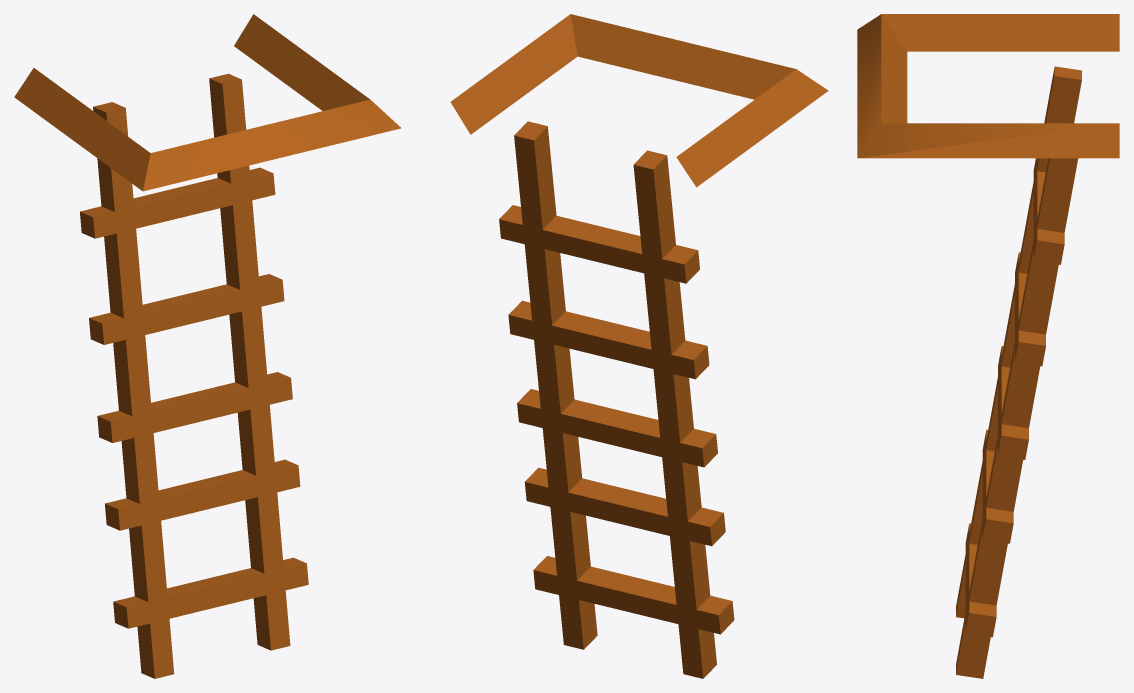
File: ladder_and_top.glb
3 views of the same model, side by side, from view 1: azimuth 30°, elevation 25°; view 2: azimuth 150°, elevation 25°; view 3: azimuth 270°, elevation 25° (orthographic). The views are drawn at different scales.
Visible parts, largest first — view 1: ladder_and_top; view 2: ladder_and_top; view 3: ladder_and_top.
Boxes of the visible parts, x1,y1,x2,y2 form: ladder_and_top: (14, 14, 401, 678); ladder_and_top: (450, 14, 828, 678); ladder_and_top: (857, 14, 1119, 678).
Size of what is drawn, in the model's own units: 1.44 by 3 by 1.24.
